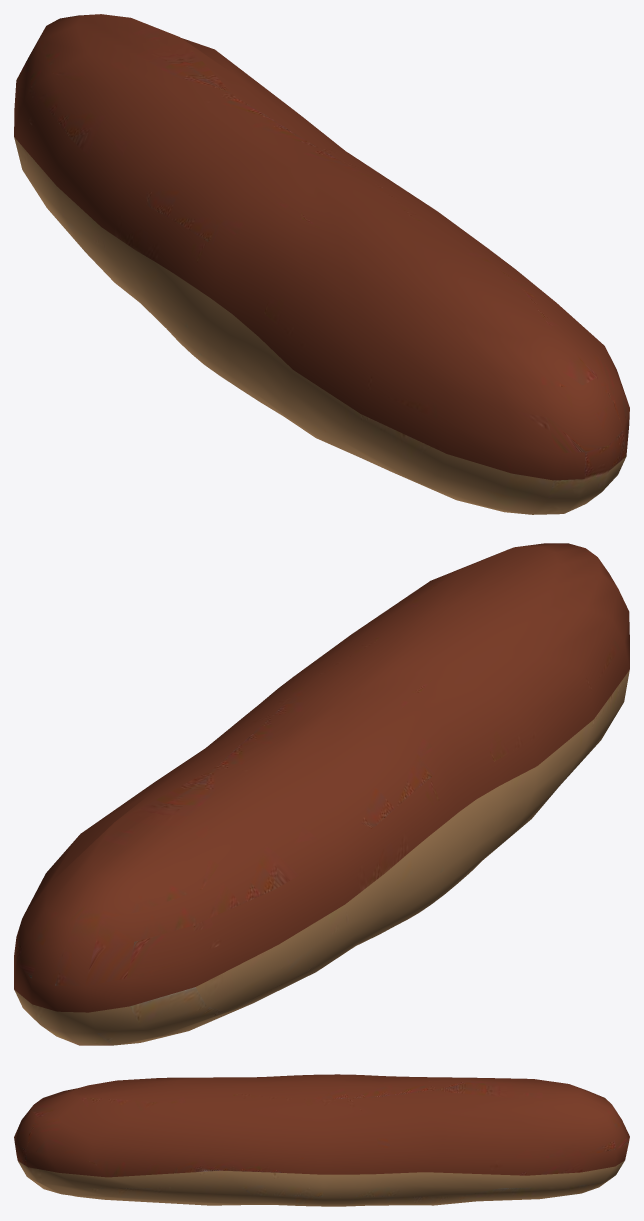
File: eclair_coin1.fbx
The picture shows the model from 3 angles, top to bottom: view 1: azimuth 30°, elevation 25°; view 2: azimuth 150°, elevation 25°; view 3: azimuth 270°, elevation 25°; orthographic projection. The views are drawn at different scales.
Visible parts, largest first — view 1: Sphere; view 2: Sphere; view 3: Sphere.
Part boxes in pixels (x1,y1,x2,y2): Sphere: (14,14,629,514); Sphere: (14,543,629,1045); Sphere: (14,1074,629,1206).
Size of the model in its own units: 181 by 144 by 695.
Materials: 1 (1 with a texture image).
